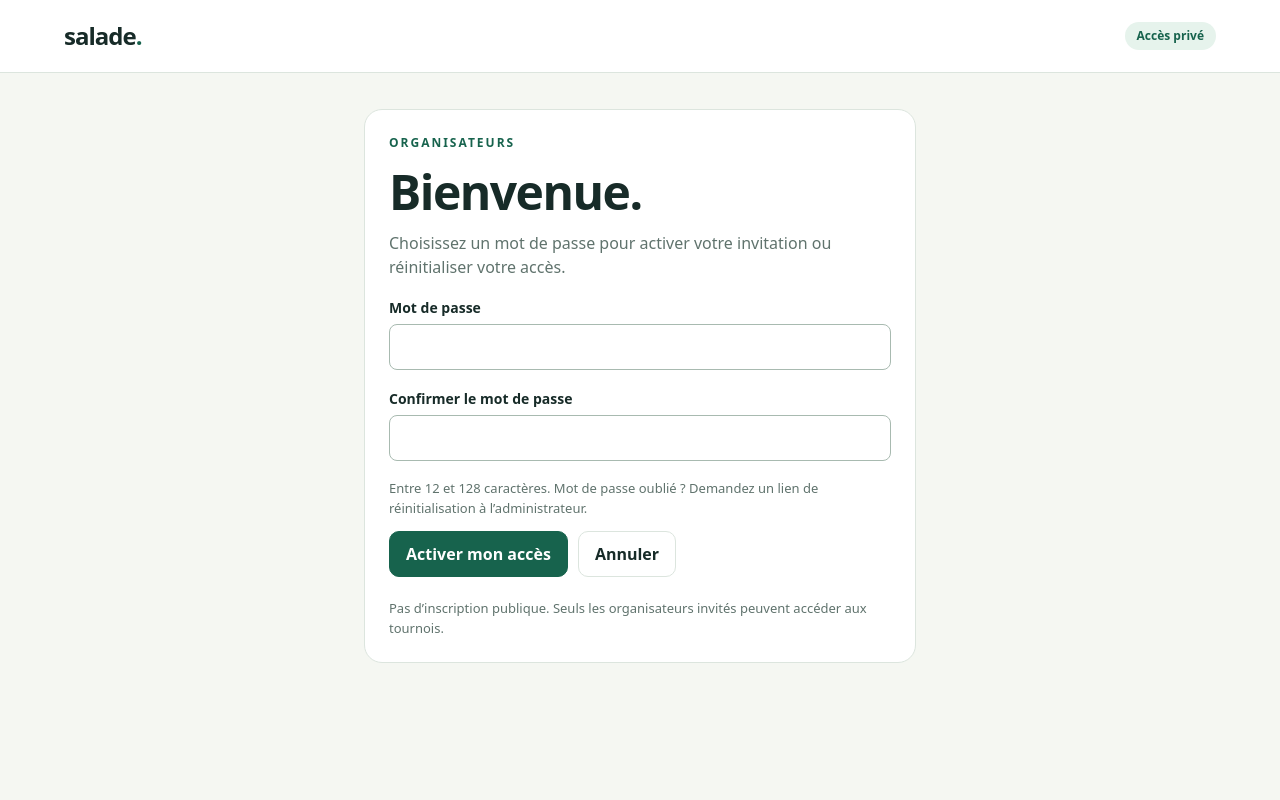
Scenario: espace privé Vue › garde un lien d’invitation même si un autre compte est connecté
Expected: the password field labelled "Confirmer le mot de passe" is shown, x1=389 y1=415 x2=891 y2=461
Type "Nouveau-mot-de-passe-123" into the password field labelled "Mot de passe" at (640, 347), box x1=389 y1=324 x2=891 y2=370
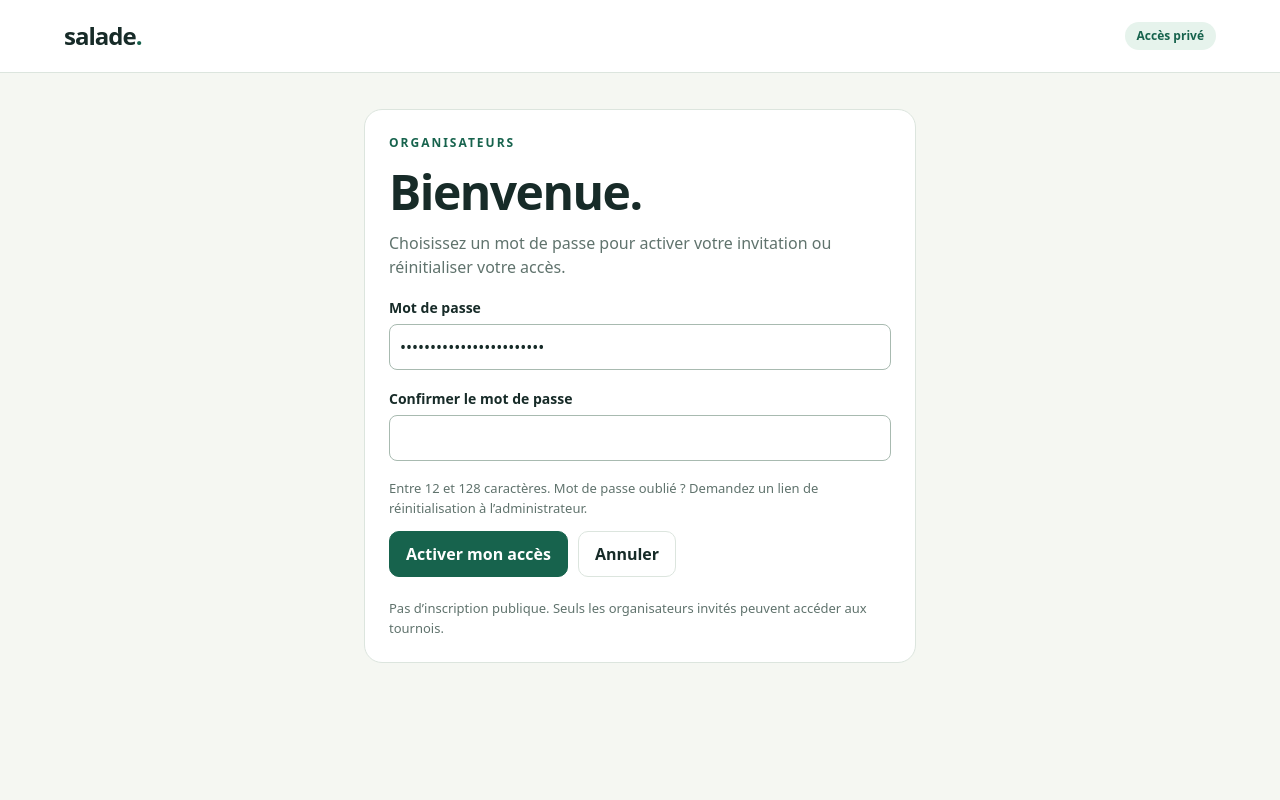
Type "Nouveau-mot-de-passe-123" into the password field labelled "Confirmer le mot de passe" at (640, 438), box x1=389 y1=415 x2=891 y2=461
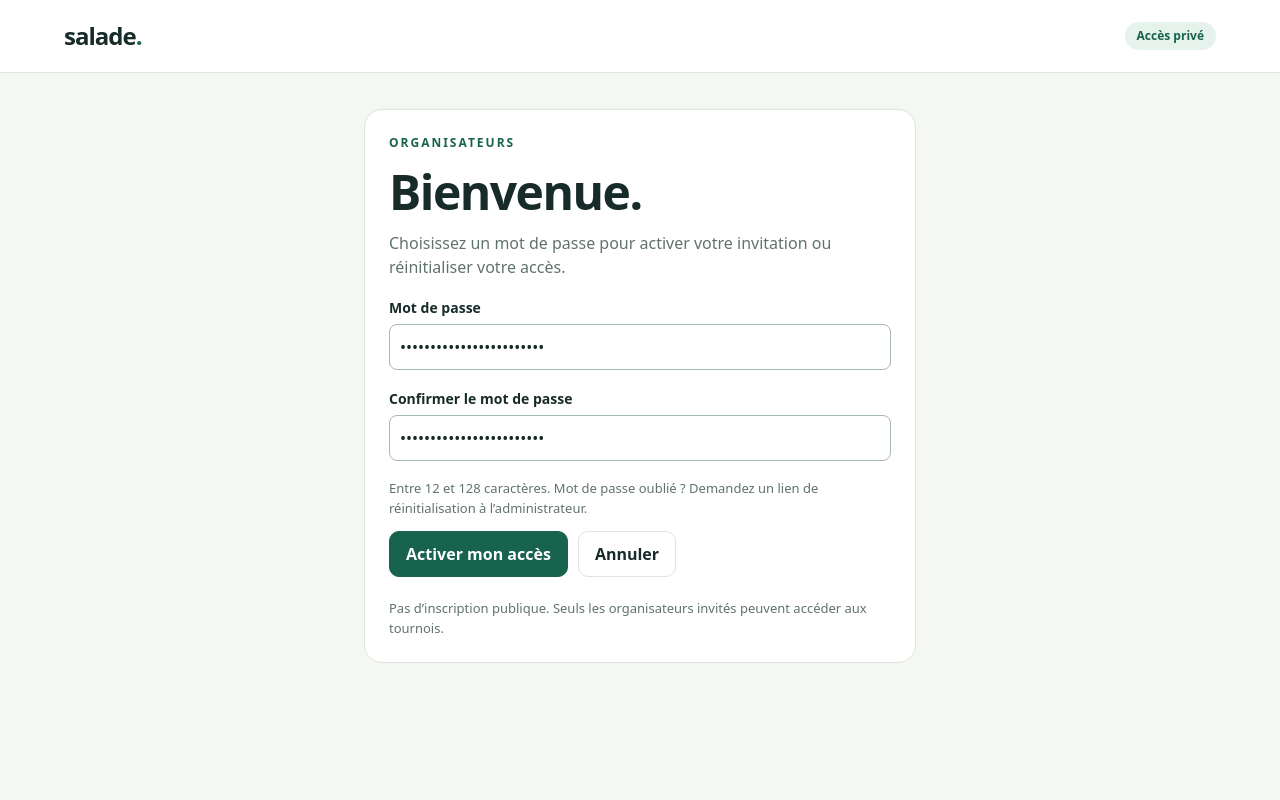
Submit the form, box x1=389 y1=297 x2=891 y2=577
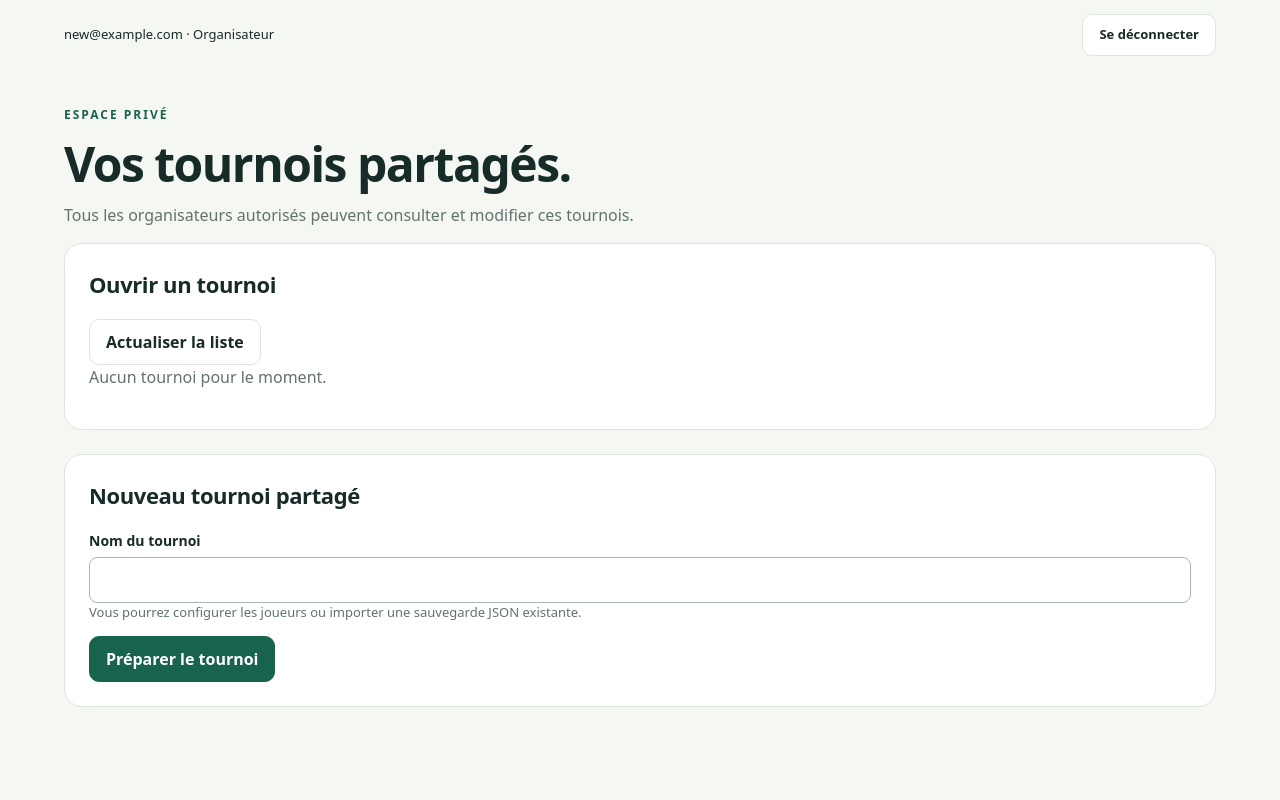
Now the text "new@example.com" is shown, box x1=64 y1=25 x2=274 y2=43
